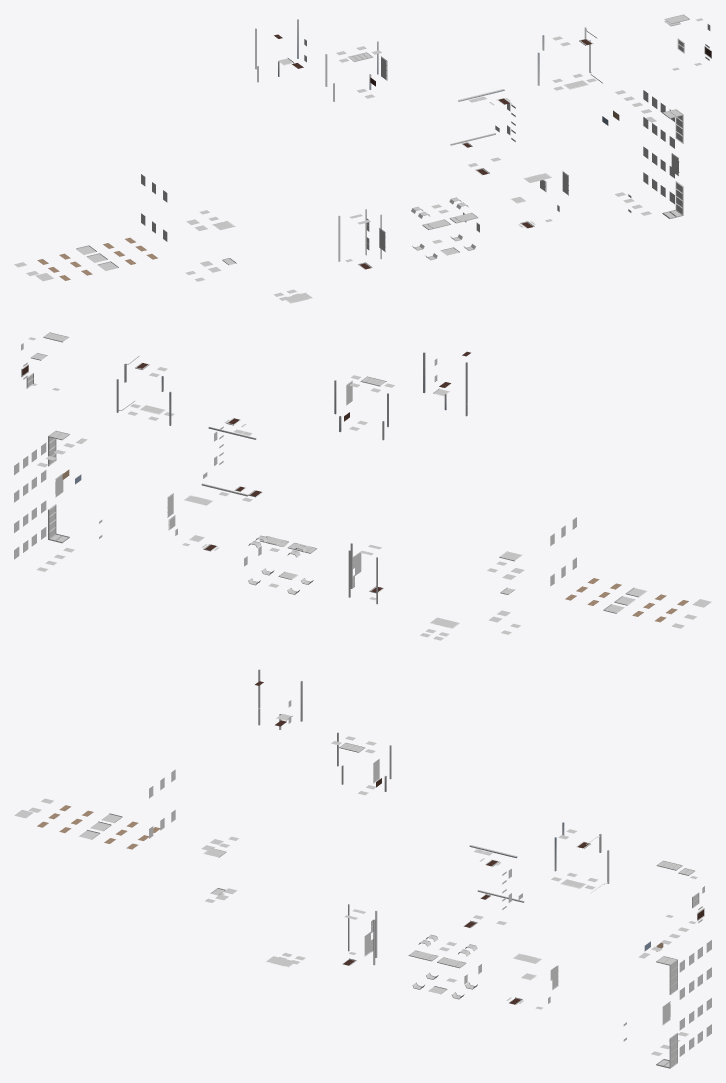
3 views of the same model, one above another, from view 1: azimuth 30°, elevation 25°; view 2: azimuth 150°, elevation 25°; view 3: azimuth 330°, elevation 25° (orthographic). The views are drawn at different scales.
Parts seen in each view (by area): view 1: SM_000299.001; view 2: SM_000299.001; view 3: SM_000299.001.
Boxes of the visible parts, x1=… form: SM_000299.001: x1=14, y1=14, x2=711, y2=303; SM_000299.001: x1=14, y1=332, x2=711, y2=640; SM_000299.001: x1=14, y1=669, x2=711, y2=1068.
Bounding box in the file's own units: 120 × 47.72 × 12.98.
